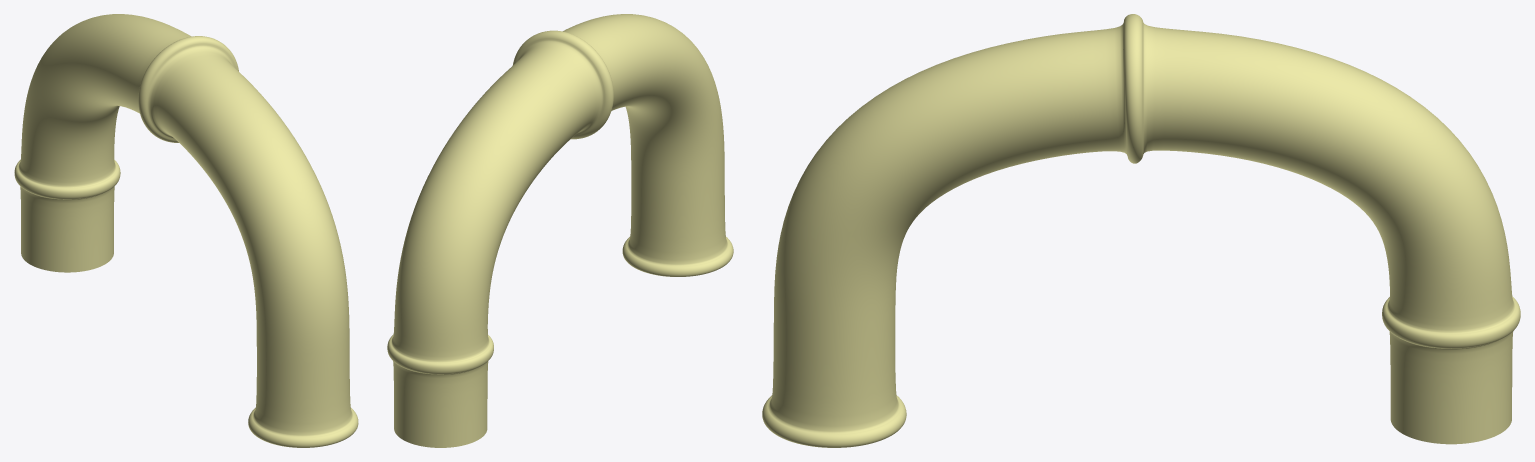
The model's file is C_Shape_Pipe_Final.fbx.
3 views of the same model, side by side, from view 1: azimuth 30°, elevation 25°; view 2: azimuth 150°, elevation 25°; view 3: azimuth 270°, elevation 25° (orthographic). The views are drawn at different scales.
Parts seen in each view (by area): view 1: pCylinder3; view 2: pCylinder3; view 3: pCylinder3.
Part boxes in pixels (left/top/right/bottom): pCylinder3: left=14, top=14, right=358, bottom=447; pCylinder3: left=387, top=14, right=733, bottom=447; pCylinder3: left=762, top=14, right=1520, bottom=447.
Bounding box in the file's own units: 2.44 × 7.12 × 12.3.
